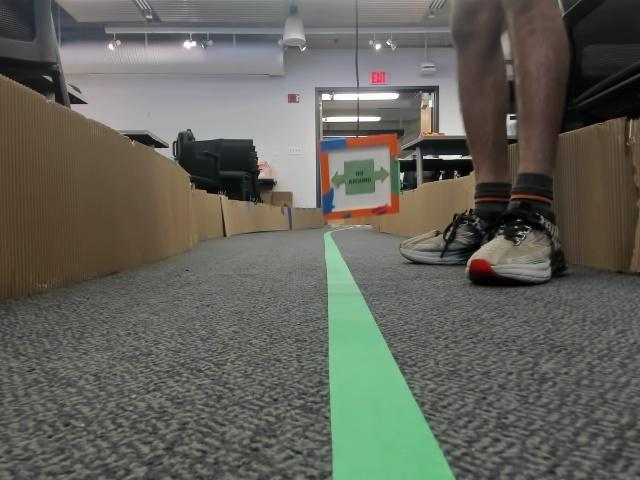Go Around: (330, 161, 388, 194)
